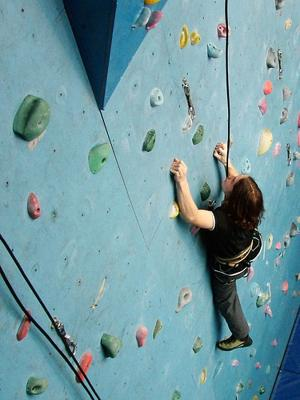person: (170, 142, 264, 350)
